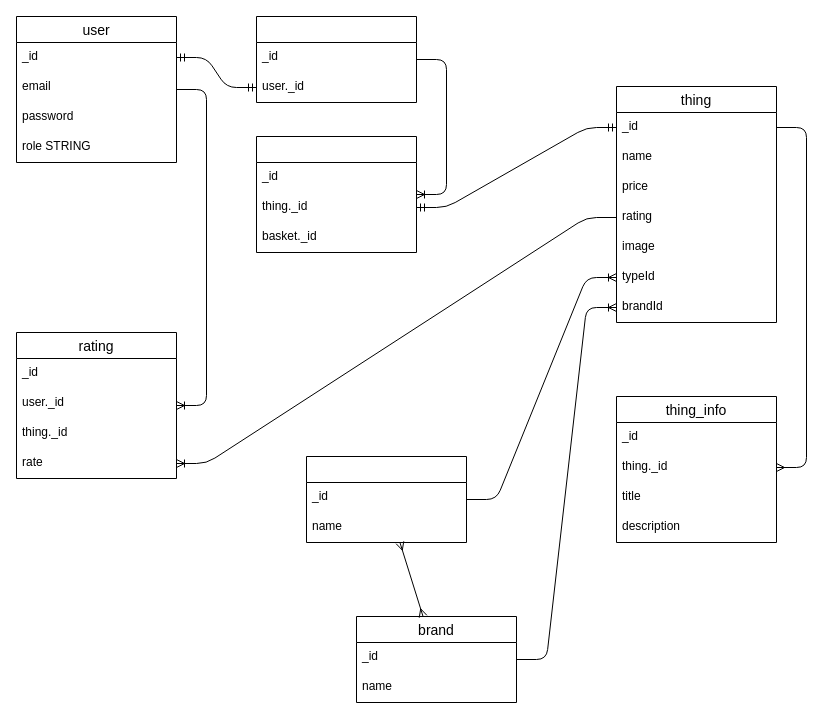
The diagram is 823 pixels wide and 719 high, and some of its shapes have lost their labels. The box of each missing label's shape, as (x1, y1, x2, y2) in pixels:
basket: (256, 16, 416, 102)
basket_thing: (256, 136, 416, 252)
type: (306, 456, 466, 542)
